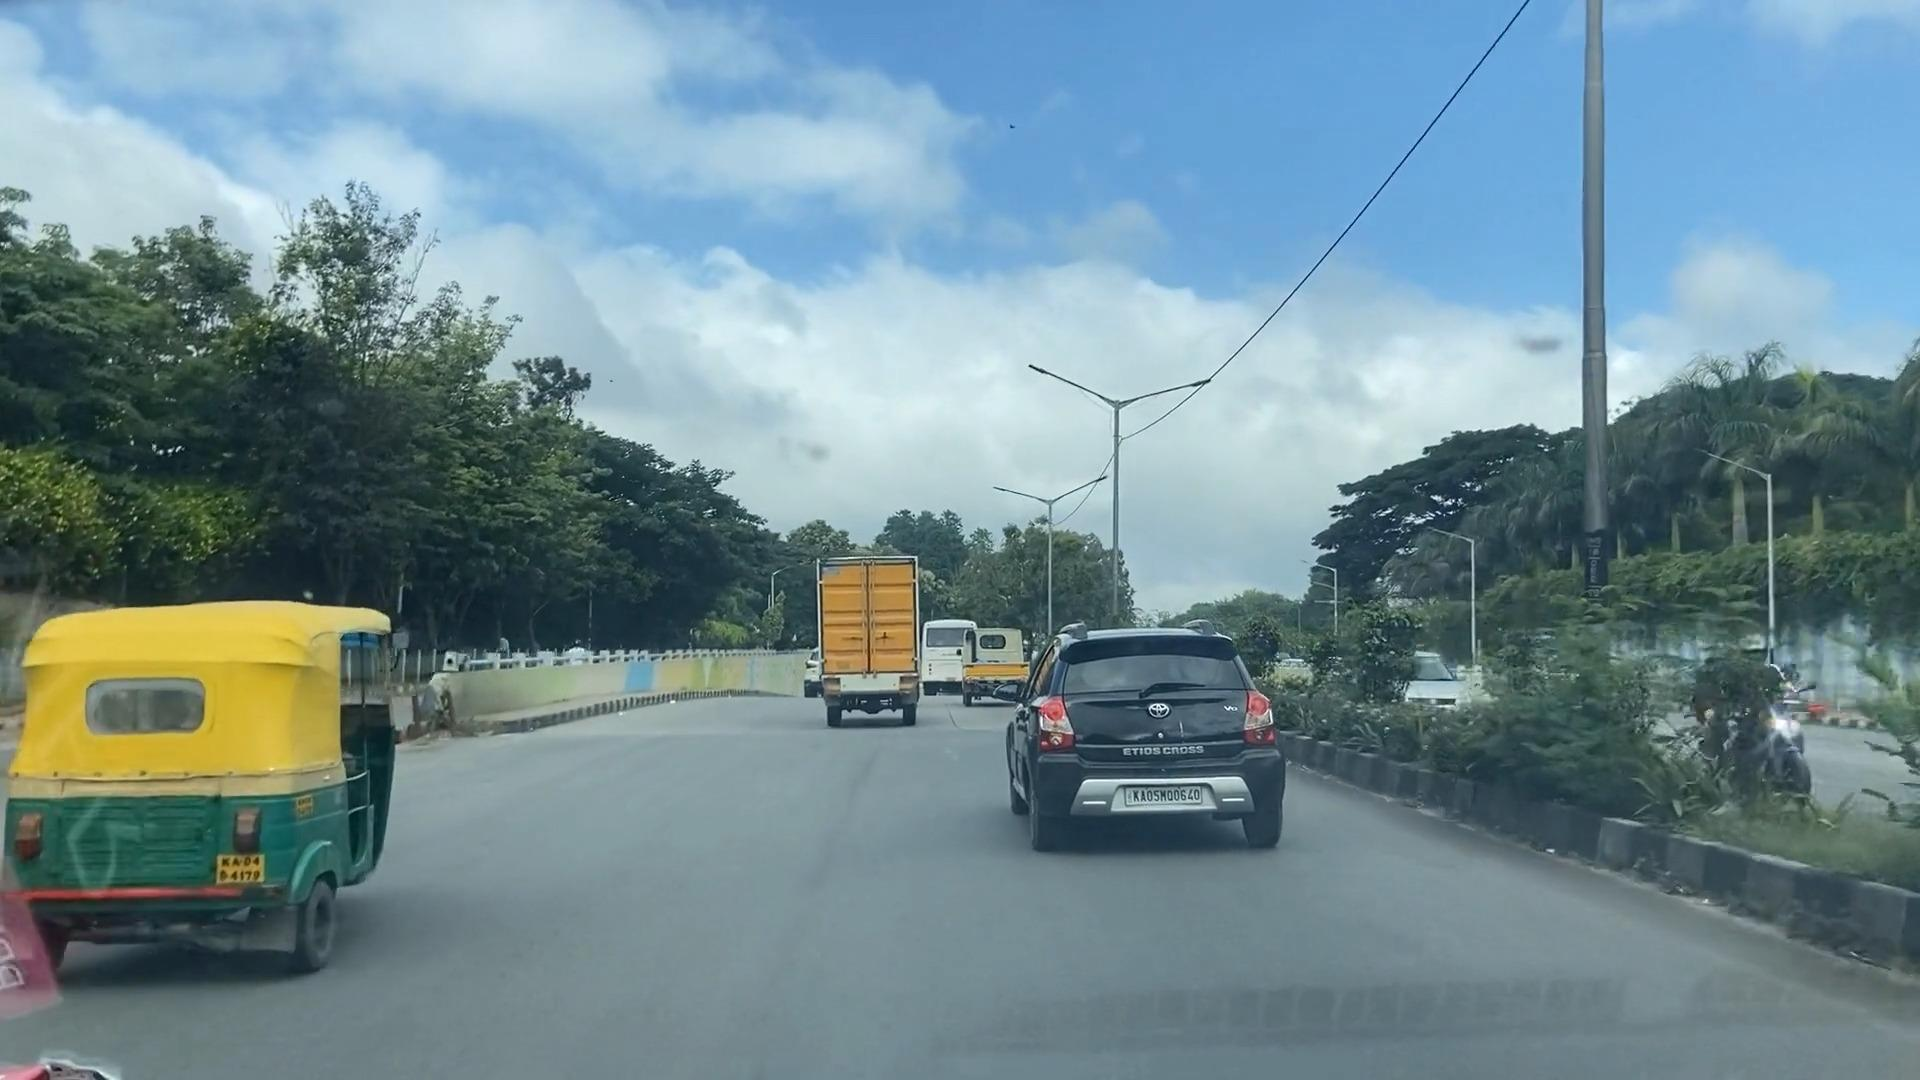HMV: (822, 556, 918, 716)
LMV: (11, 605, 429, 969), (1009, 620, 1291, 848)
